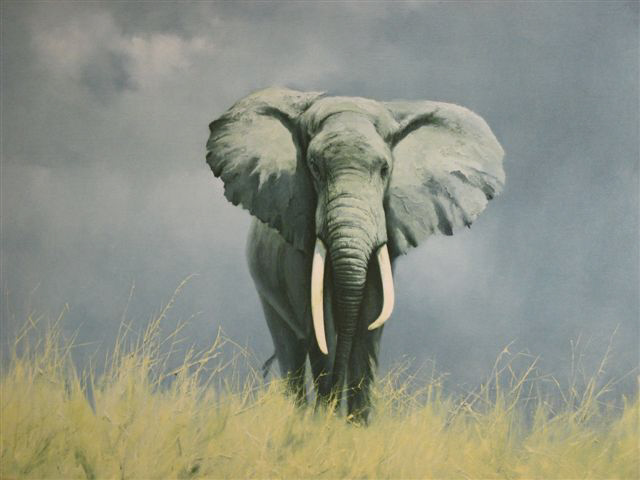elephant: (198, 72, 525, 434)
